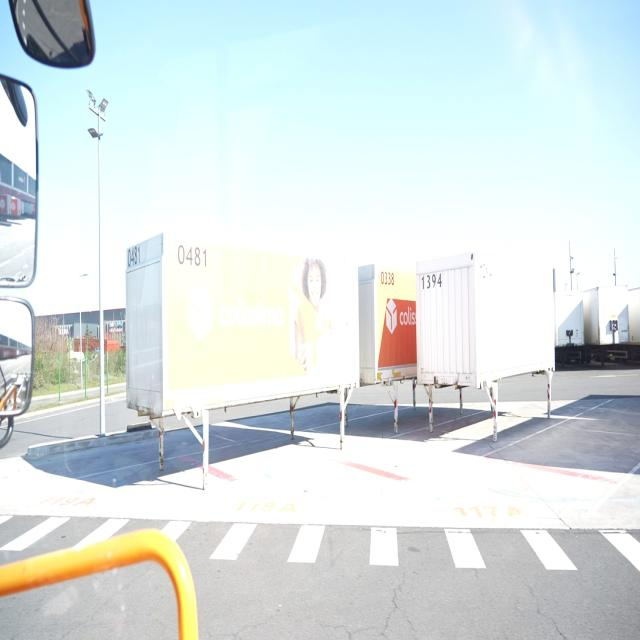Code: (178, 244, 210, 270), (417, 272, 446, 294), (122, 244, 141, 270), (379, 268, 395, 290)
